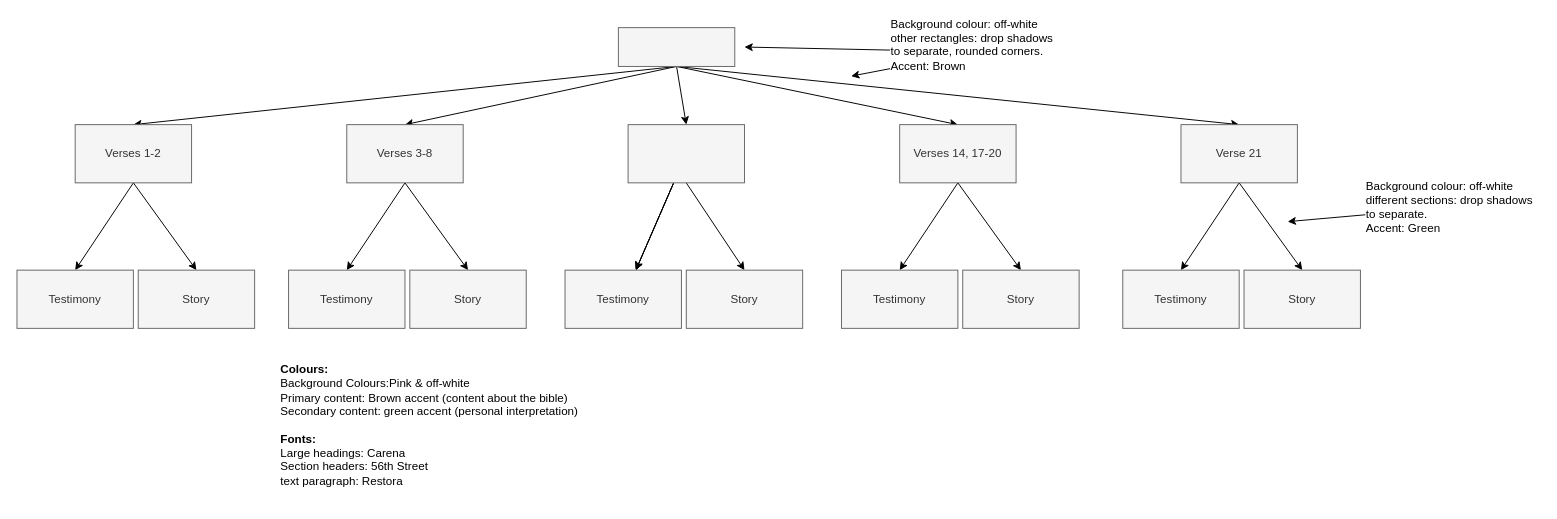
Some shapes in this 1557 by 519 pixel diagram are drawn without their labels. The box of each missing label's shape, as (x1, y1, x2, y2) in pixels:
HOME: (617, 27, 735, 66)
Verses 9-16: (627, 124, 744, 183)
